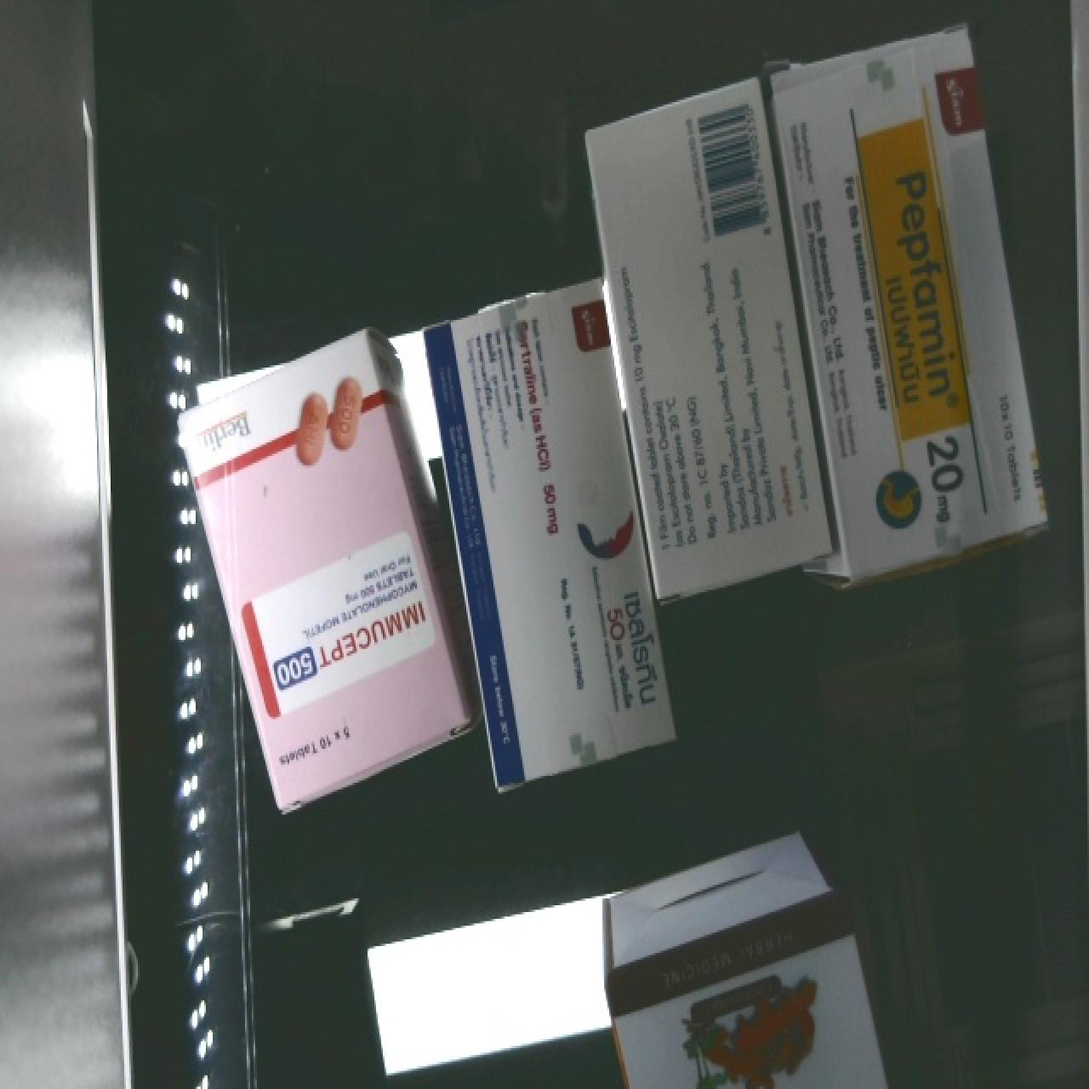medicine_label_obb: (858, 123, 992, 551), (247, 567, 450, 719), (590, 577, 675, 741)
